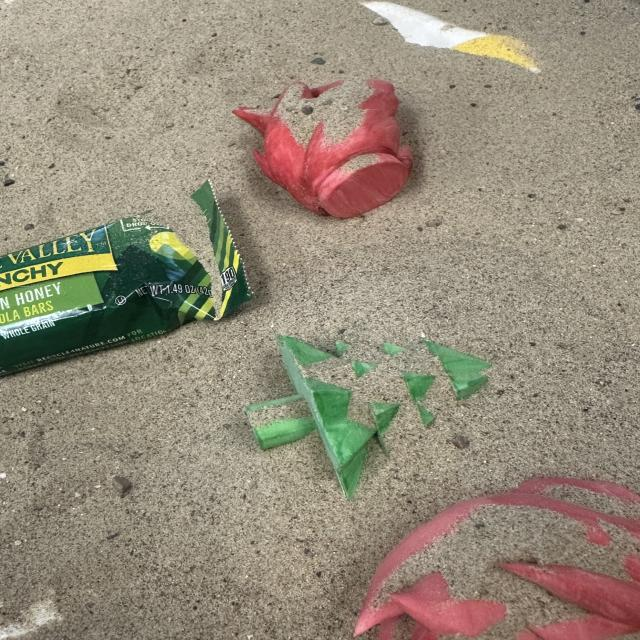fire: (352, 476, 638, 638), (230, 76, 414, 219)
tree: (243, 331, 492, 501)
